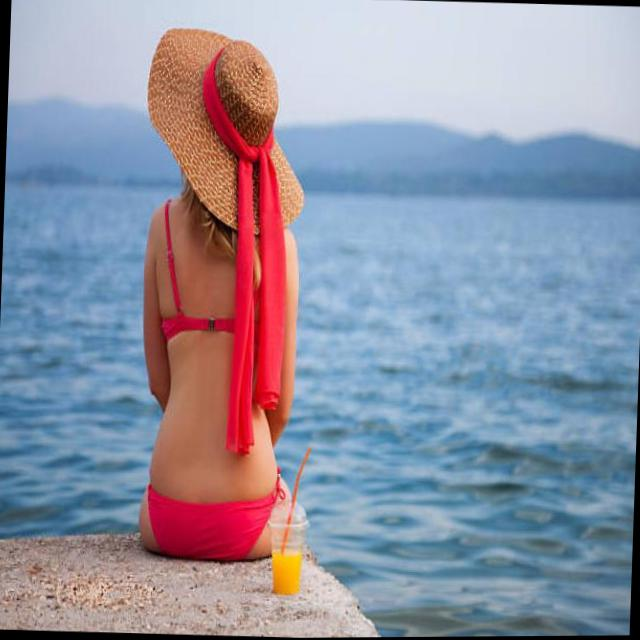no helmet: (142, 16, 312, 250)
